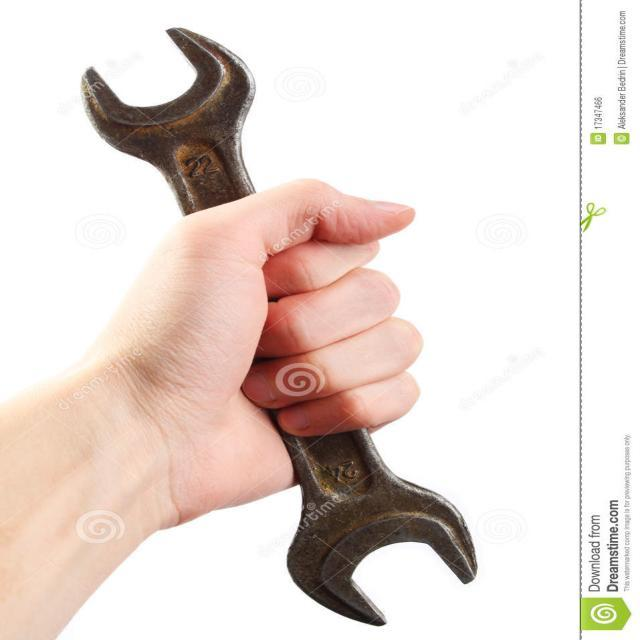wrench: (71, 24, 484, 626)
